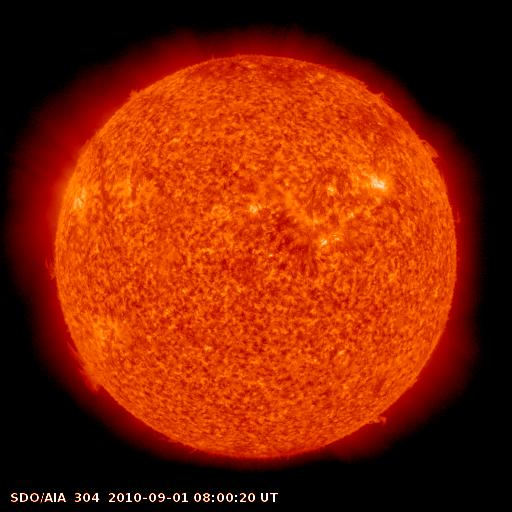prominence: (316, 54, 403, 107), (64, 325, 109, 399), (411, 122, 450, 171), (34, 246, 74, 289), (363, 405, 397, 435)
